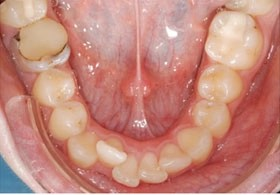LL1BC_healthy: (192, 103, 232, 136)
LL1M_healthy: (209, 15, 260, 64)
LL2BC_healthy: (200, 68, 241, 100)
LLCI_healthy: (140, 153, 165, 182)
LLC_healthy: (181, 128, 212, 158)
LLLI_healthy: (162, 144, 188, 171)
LR1BC_healthy: (52, 104, 84, 135)
LR1M_decay: (18, 23, 68, 68)
LR2BC_healthy: (36, 68, 76, 103)
LRCI_healthy: (119, 152, 138, 186)
LRC_healthy: (71, 134, 95, 165)
LRLI_healthy: (98, 136, 124, 164)
